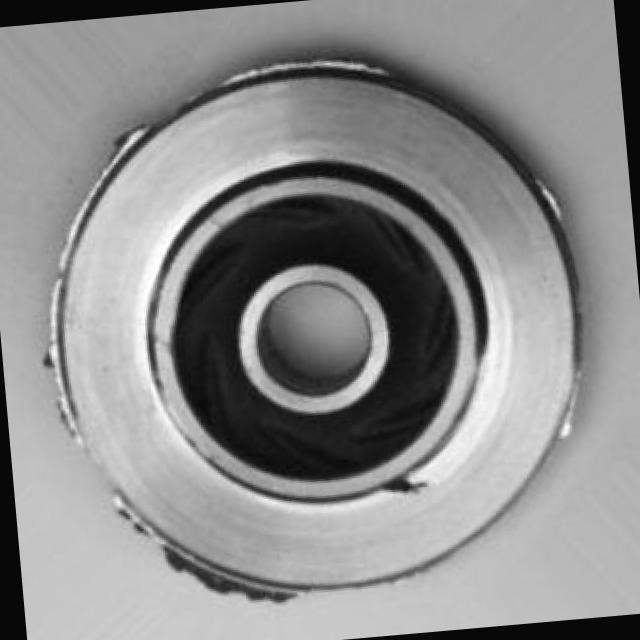Defect: (375, 462, 437, 514)
